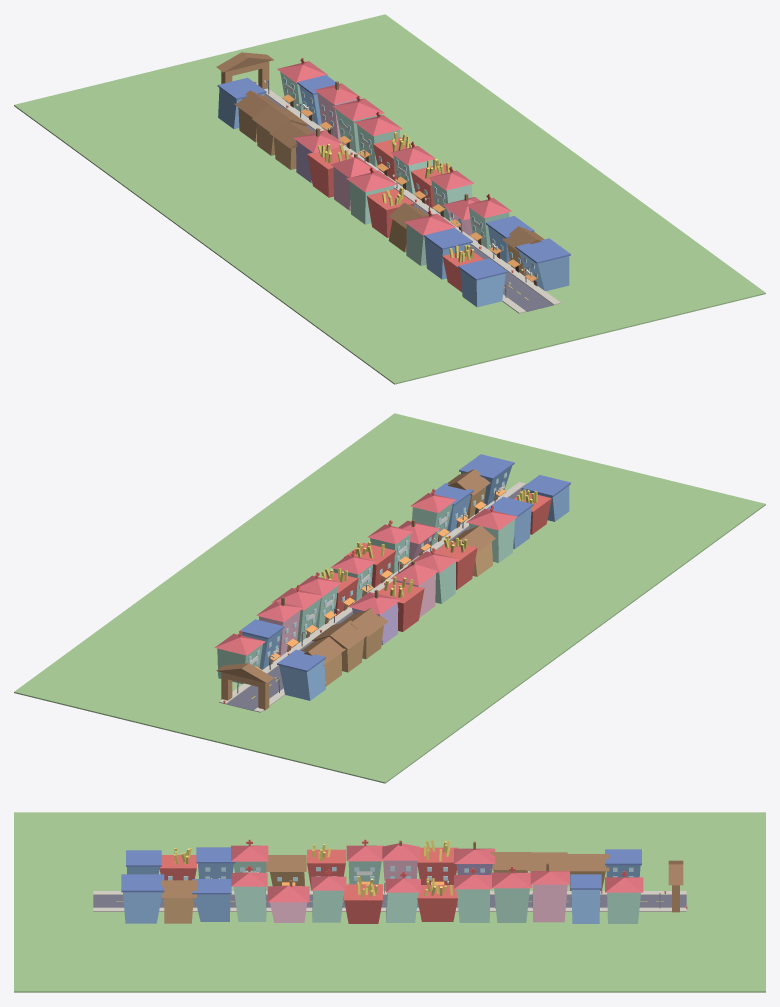
The model's file is papa_calle.glb.
3 renders of one model, top to bottom at view 1: azimuth 30°, elevation 25°; view 2: azimuth 150°, elevation 25°; view 3: azimuth 270°, elevation 25°, orthographic.
Visible parts, largest first — view 1: Mapa; view 2: Mapa; view 3: Mapa.
Part boxes in pixels (x1,y1,x2,y2): Mapa: (14, 14, 765, 384); Mapa: (14, 413, 765, 783); Mapa: (14, 812, 765, 992).
Size of what is drawn, in the model's own units: 160 by 21.84 by 284.
